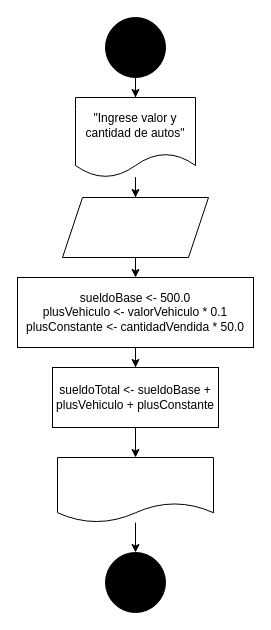
Some shapes in this 271 by 630 pixel diagram are drawn without their labels. Each missing label, with the centre of its shape:
"El sueldo del vendedor es:", sueldoTotal: the point at 135,489
valorVehiculo, cantidadVendida: the point at 135,227
